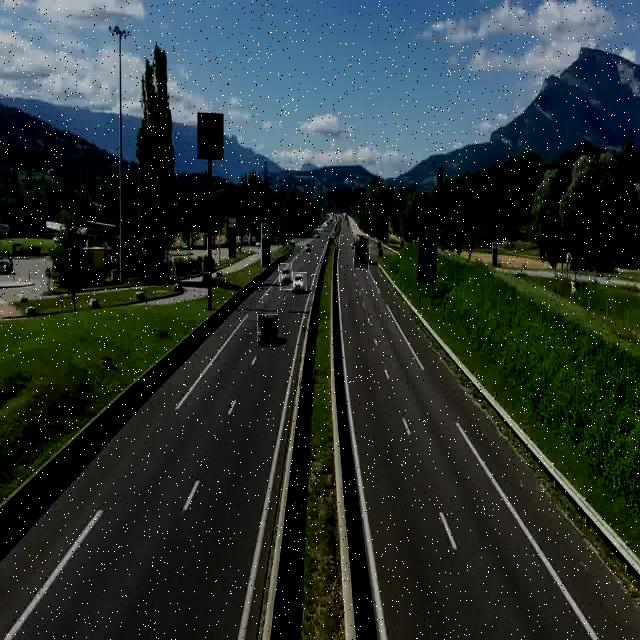Car: (257, 314, 278, 347), (278, 264, 292, 290), (291, 272, 307, 291)
Truck: (354, 235, 369, 269)
